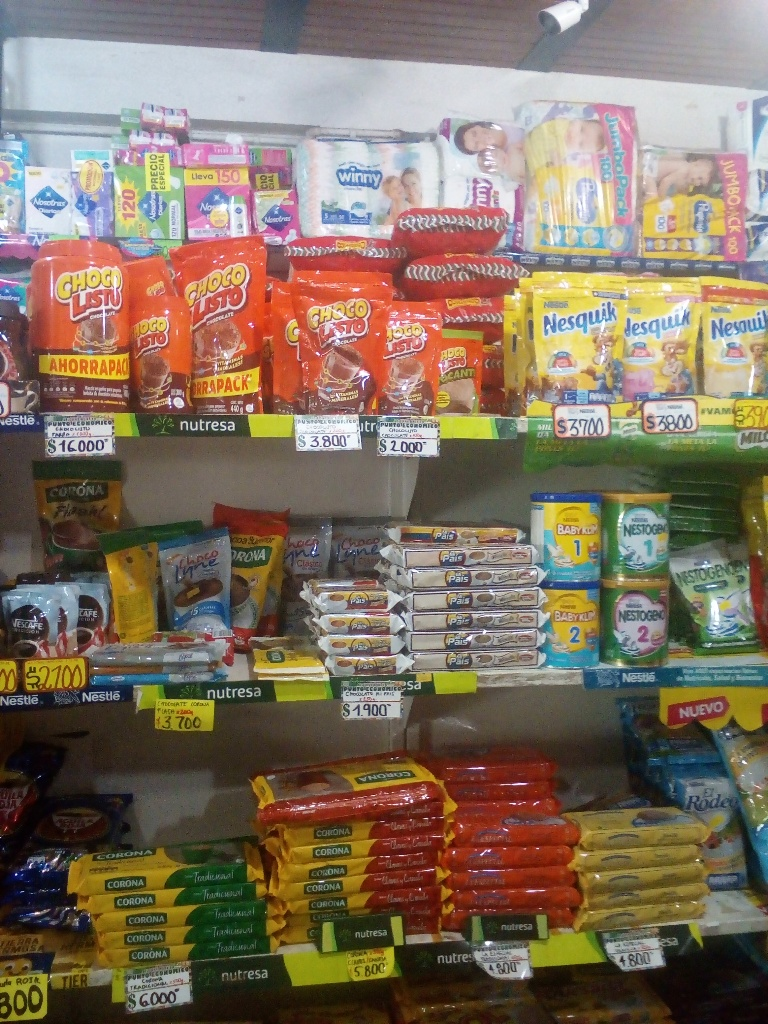COL0170102DYP10000: (434, 325, 487, 415)
COL0170103DYP10000: (379, 296, 443, 415)
COL0170103DYP20000: (288, 265, 391, 413)
COL0170103DYP40000: (167, 243, 265, 415)
COL0170103TRR00100: (17, 228, 133, 413)
COL0170103TRR30000: (135, 290, 198, 415)
COL0170303DYP20000: (525, 267, 621, 414)
COL0170306DYP20000: (701, 275, 768, 398)
